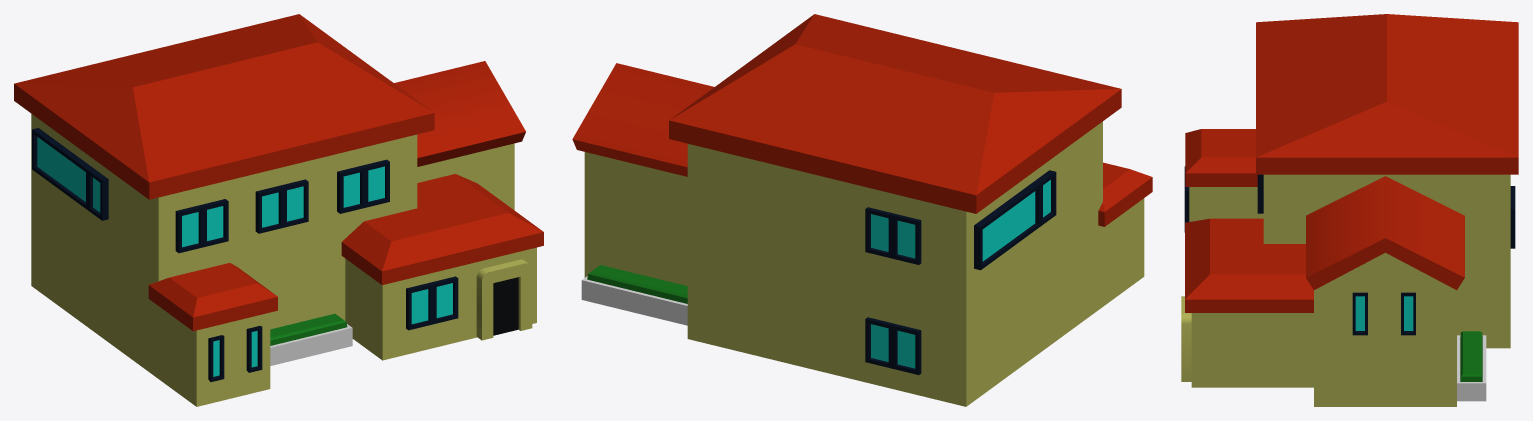
The model's file is House_6.fbx.
3 renders of one model, left to right at view 1: azimuth 30°, elevation 25°; view 2: azimuth 150°, elevation 25°; view 3: azimuth 270°, elevation 25°, orthographic. The views are drawn at different scales.
Parts seen in each view (by area): view 1: House_6; view 2: House_6; view 3: House_6.
Boxes of the visible parts, <box> form: House_6: <box>14,14,543,406</box>; House_6: <box>572,14,1152,406</box>; House_6: <box>1181,14,1518,406</box>.
Size of the model in its own units: 76.19 by 42.69 by 56.82.
